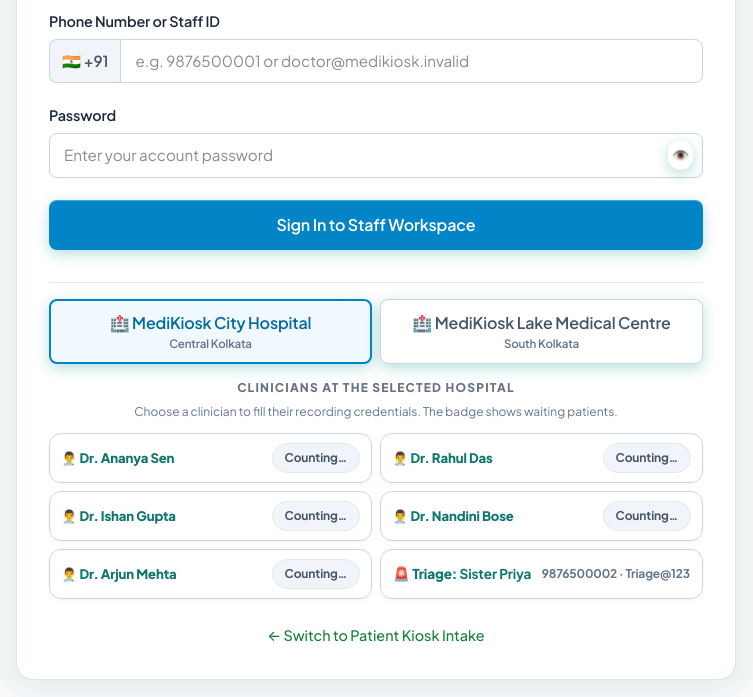
it: Staff & Specialist Password Login System › populates fields when Triage quick-fill button is clicked
(page scrolled)
Click the button "🚨 Triage: Sister Priya 9876500002 · Triage@123". click: click(542, 574)
box: [380,549,703,599]
(page scrolled)
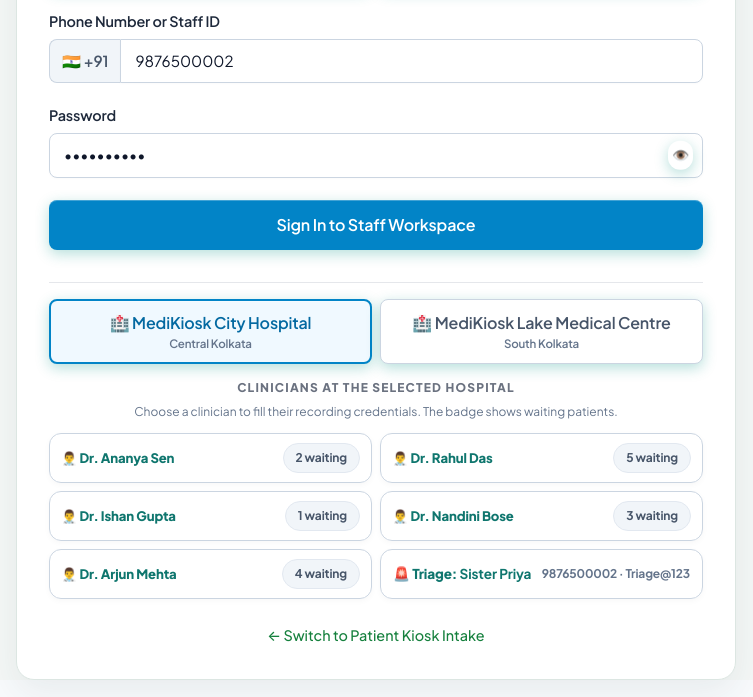
Now the field labelled "Phone Number or Staff ID" holds "9876500002", box [120,39,703,83]
Now the password field labelled "Password" holds "Triage@123", box [49,133,703,178]
